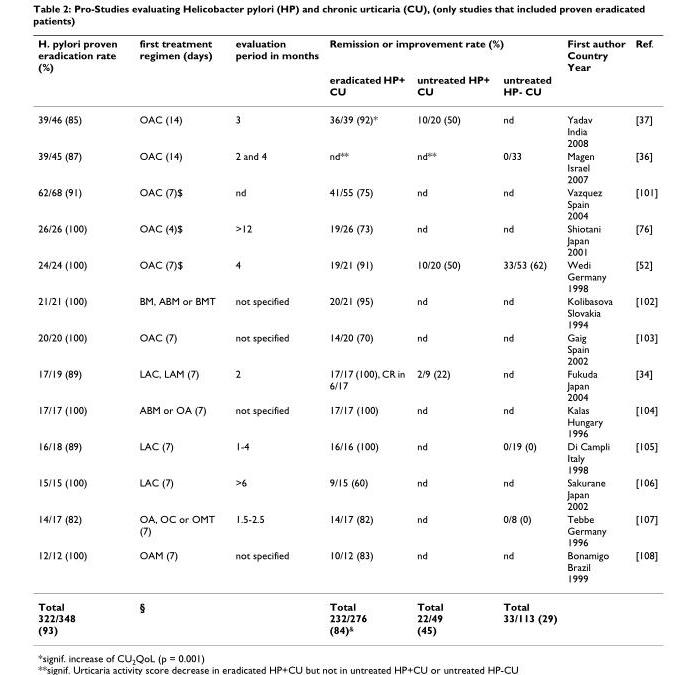table: (37, 36, 657, 635)
table column: (224, 36, 323, 635), (127, 36, 224, 635), (37, 36, 127, 635), (323, 36, 410, 635), (410, 36, 495, 635), (561, 36, 629, 635), (495, 36, 561, 635), (629, 36, 657, 635)
table column header: (37, 36, 657, 105)
table row: (37, 105, 657, 149), (37, 548, 657, 592), (37, 592, 657, 635), (37, 257, 657, 294), (37, 366, 657, 403), (37, 475, 657, 512), (37, 36, 657, 72), (37, 149, 657, 185), (37, 185, 657, 221), (37, 221, 657, 257), (37, 294, 657, 330), (37, 330, 657, 366), (37, 403, 657, 439), (37, 439, 657, 475), (37, 512, 657, 548), (37, 72, 657, 105)
table spanning cell: (323, 36, 561, 72), (224, 36, 323, 105), (127, 36, 224, 105), (37, 36, 127, 105), (561, 36, 629, 105), (629, 36, 657, 105)
